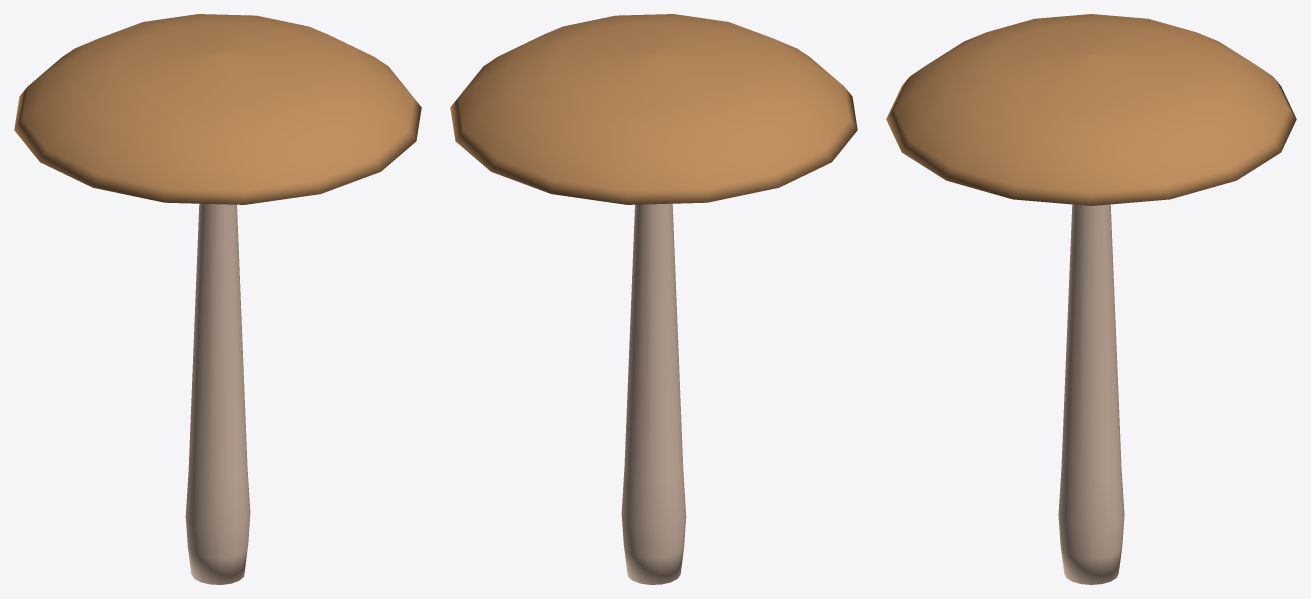
Rendered from V1.MushroomSingle02b.fbx.
3 views of the same model, side by side, from view 1: azimuth 30°, elevation 25°; view 2: azimuth 150°, elevation 25°; view 3: azimuth 270°, elevation 25° (orthographic).
Visible parts, largest first — view 1: Cylinder; view 2: Cylinder; view 3: Cylinder.
Part boxes in pixels (bbox=[...]): Cylinder: bbox=[14, 14, 421, 584]; Cylinder: bbox=[450, 14, 857, 584]; Cylinder: bbox=[886, 14, 1296, 584].
Size of the model in its own units: 147 by 205 by 147.
